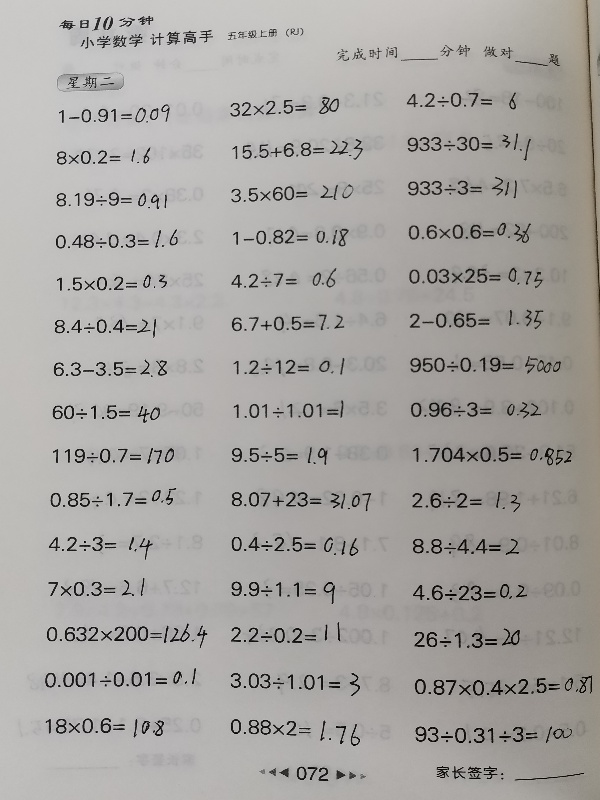equation: (409, 719, 585, 751), (409, 673, 600, 701), (42, 618, 210, 648), (403, 127, 534, 160), (409, 442, 575, 468), (227, 668, 364, 699), (226, 714, 365, 744), (407, 304, 549, 332), (40, 666, 199, 691), (406, 353, 565, 378), (230, 136, 367, 164), (404, 262, 546, 289), (227, 487, 374, 513), (226, 265, 351, 295), (404, 217, 534, 245), (407, 398, 548, 422), (227, 532, 362, 557), (228, 578, 339, 608), (41, 713, 167, 739), (403, 172, 520, 200), (51, 228, 181, 253), (230, 225, 353, 251), (46, 486, 179, 510), (46, 530, 156, 559), (227, 620, 343, 647), (227, 181, 357, 205), (409, 580, 530, 605), (408, 487, 524, 513), (226, 93, 342, 119), (49, 445, 179, 468), (54, 103, 173, 128), (410, 626, 523, 652), (50, 356, 170, 380), (227, 311, 347, 335), (404, 89, 524, 113), (48, 400, 163, 425), (51, 316, 160, 342), (230, 398, 348, 422), (230, 354, 348, 378), (52, 187, 170, 211), (409, 535, 523, 559), (52, 272, 170, 295), (45, 574, 148, 600), (228, 444, 331, 469), (52, 145, 153, 168)
